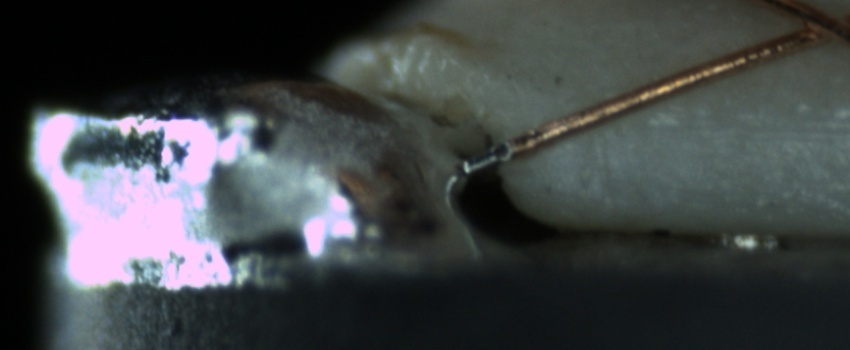CL: (770, 3, 849, 54)
DL: (665, 96, 849, 158)
TS: (461, 142, 513, 173)
